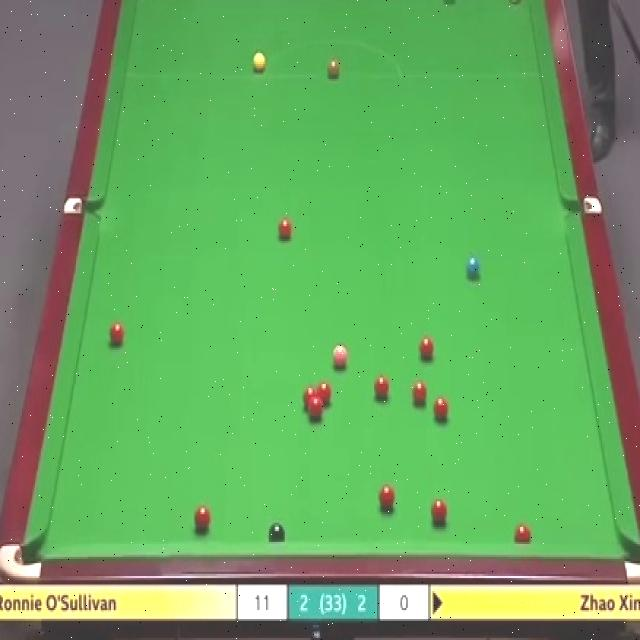black-ball: (268, 519, 287, 543)
blue-ball: (464, 254, 481, 281)
brown-ball: (325, 56, 340, 80)
green-ball: (440, 0, 456, 4)
pink-ball: (332, 340, 349, 368)
red-ball: (418, 334, 436, 365), (107, 320, 126, 348), (412, 378, 428, 410), (378, 483, 396, 511), (430, 498, 447, 527), (432, 393, 449, 421), (373, 374, 389, 401), (278, 216, 294, 242), (195, 504, 211, 530), (318, 381, 332, 408), (514, 522, 532, 543), (309, 399, 323, 420), (303, 386, 317, 407)
white-ball: (505, 0, 521, 6)
yellow-ball: (250, 50, 266, 72)
